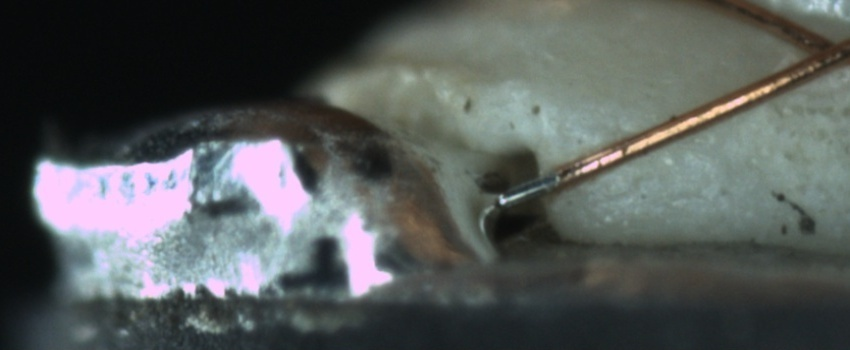CL: (775, 12, 848, 83)
TS: (496, 172, 561, 207)
